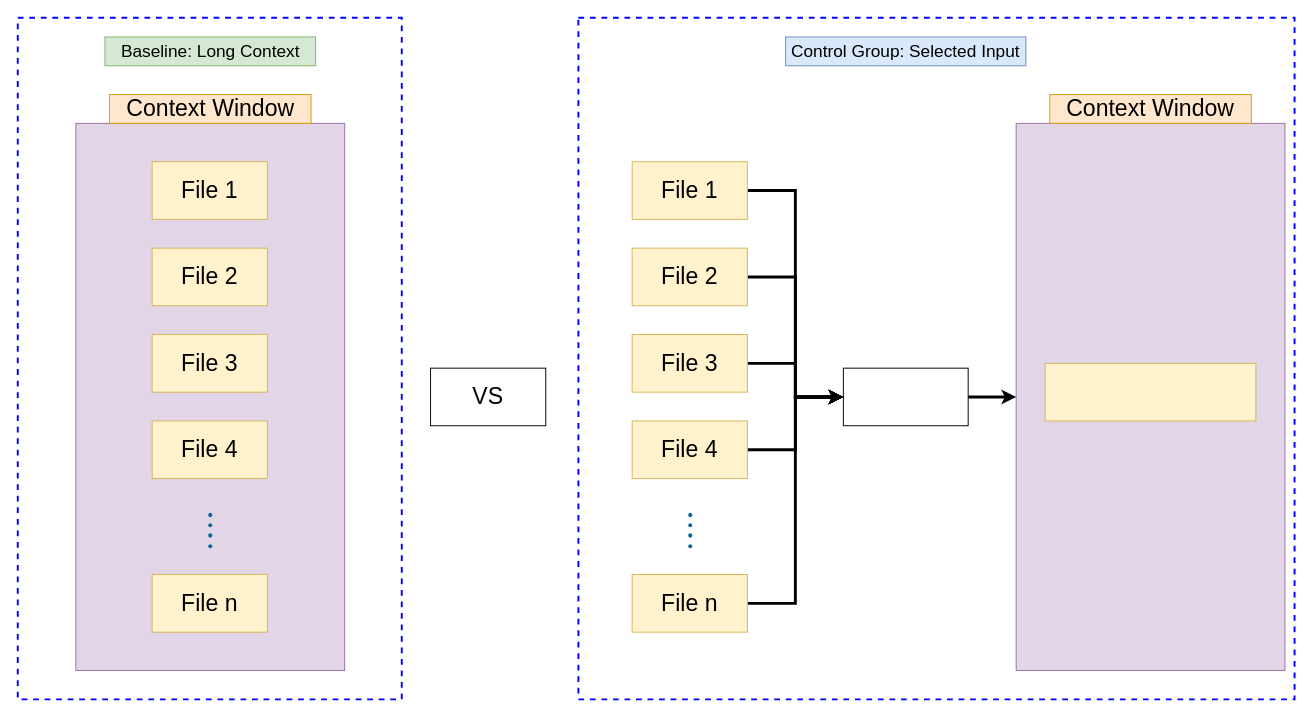
The diagram is 1311 pixels wide and 716 high, and some of its shapes have lost their labels. Here are the shapes that lost their labels. From the top down, the centre of each, then its label:
At [905,396]: "Select Tool".
At [1150,391]: "Selected Content".
